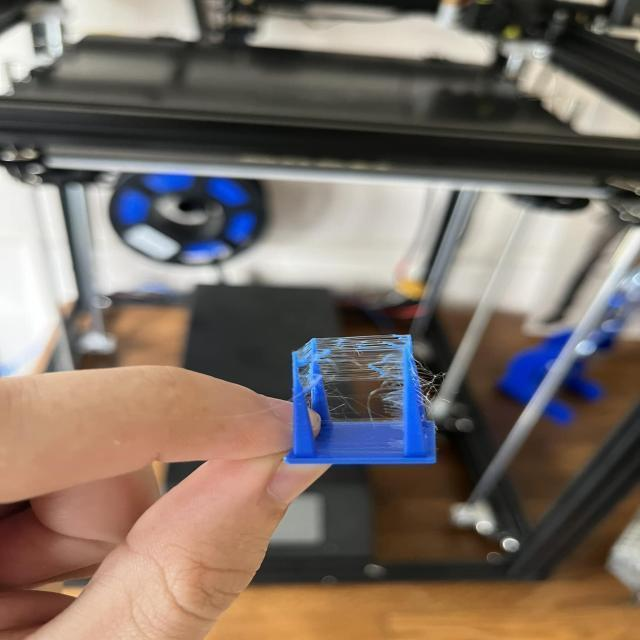stringing: (317, 332, 400, 380), (372, 371, 402, 411), (419, 368, 441, 406)
